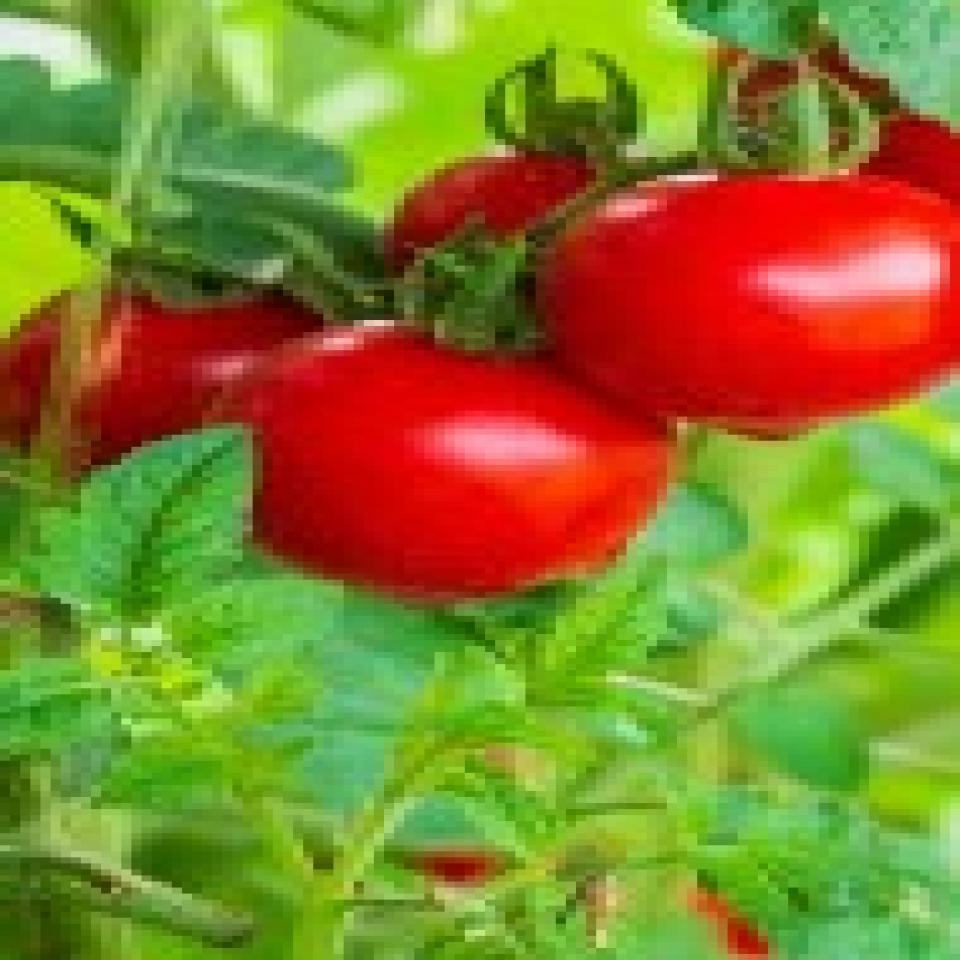Healthy: (200, 329, 694, 577), (566, 175, 960, 423), (0, 257, 337, 456)
